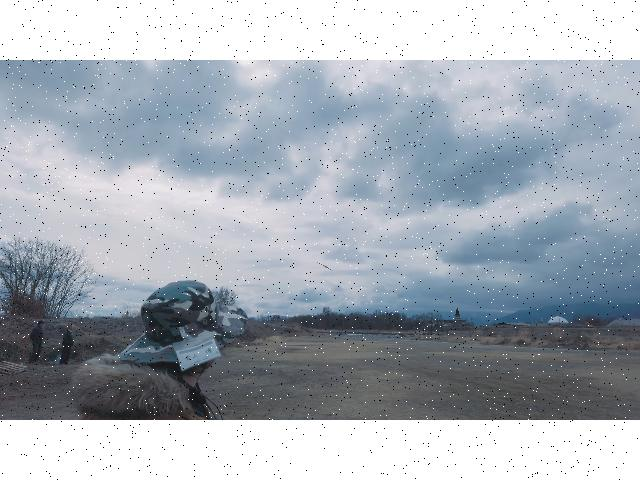Anti-Drone: (312, 260, 334, 274)
